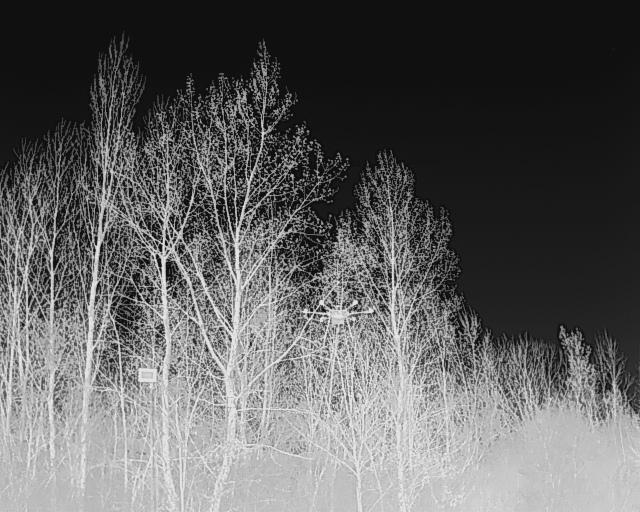drone: (297, 291, 380, 358)
